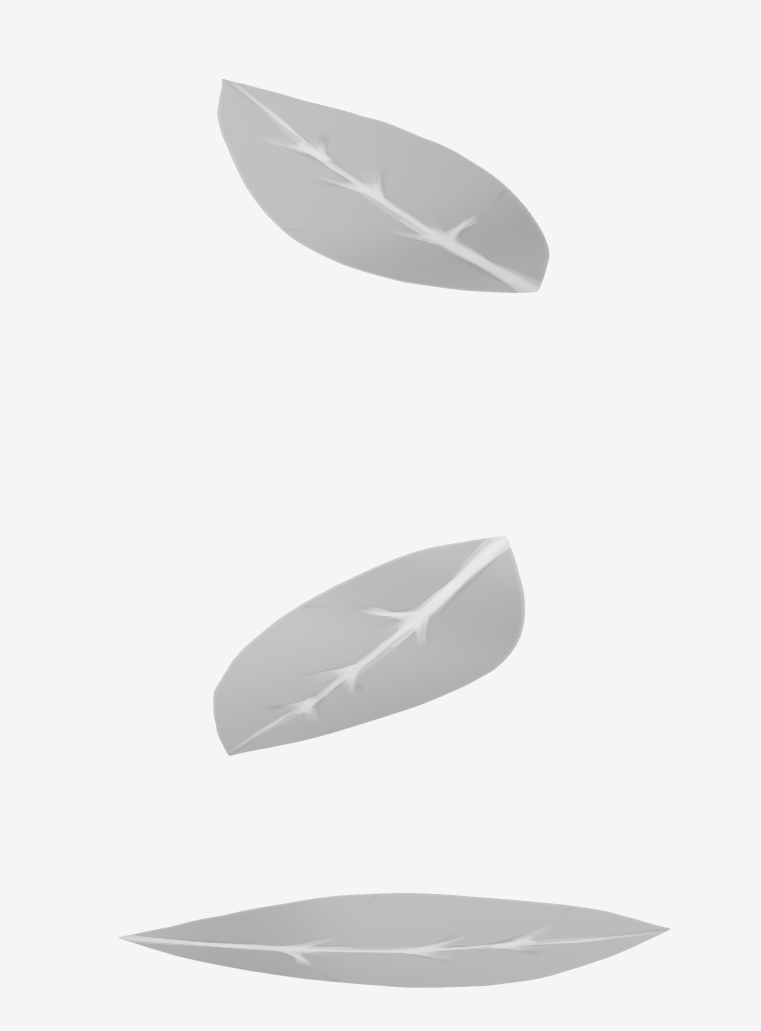
The model's file is petal_projectile_mesh.FBX.
3 renders of one model, top to bottom at view 1: azimuth 30°, elevation 25°; view 2: azimuth 150°, elevation 25°; view 3: azimuth 270°, elevation 25°, orthographic. The views are drawn at different scales.
Parts seen in each view (by area): view 1: Plane002; view 2: Plane002; view 3: Plane002.
Part boxes in pixels (x1,y1,x2,y2): Plane002: (217,79,549,292); Plane002: (213,536,524,755); Plane002: (118,893,670,987).
Bounding box in the file's own units: 61.43 × 9.68 × 121.
